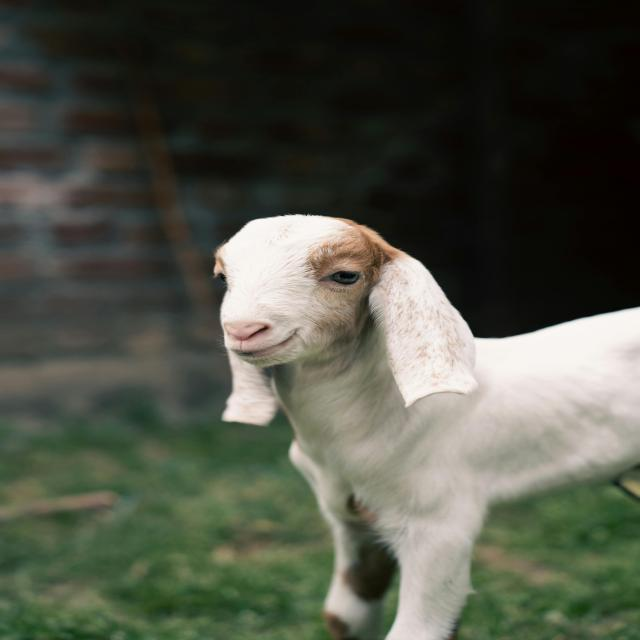Goat: (212, 214, 640, 640)
